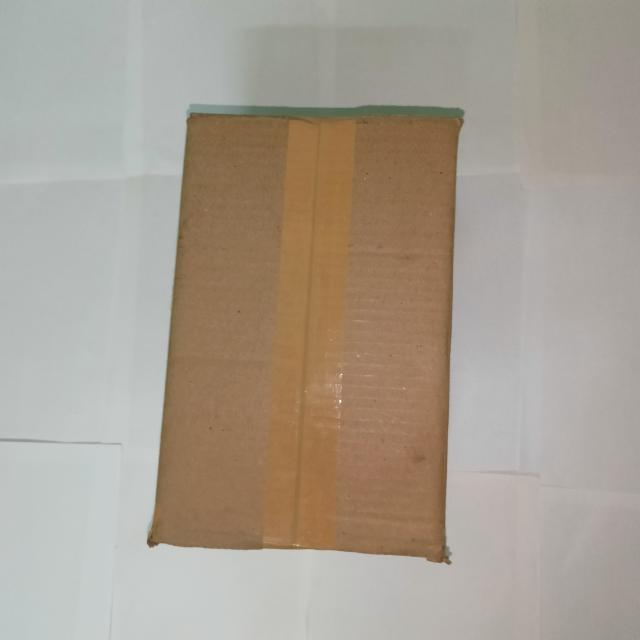box: (154, 115, 461, 554)
